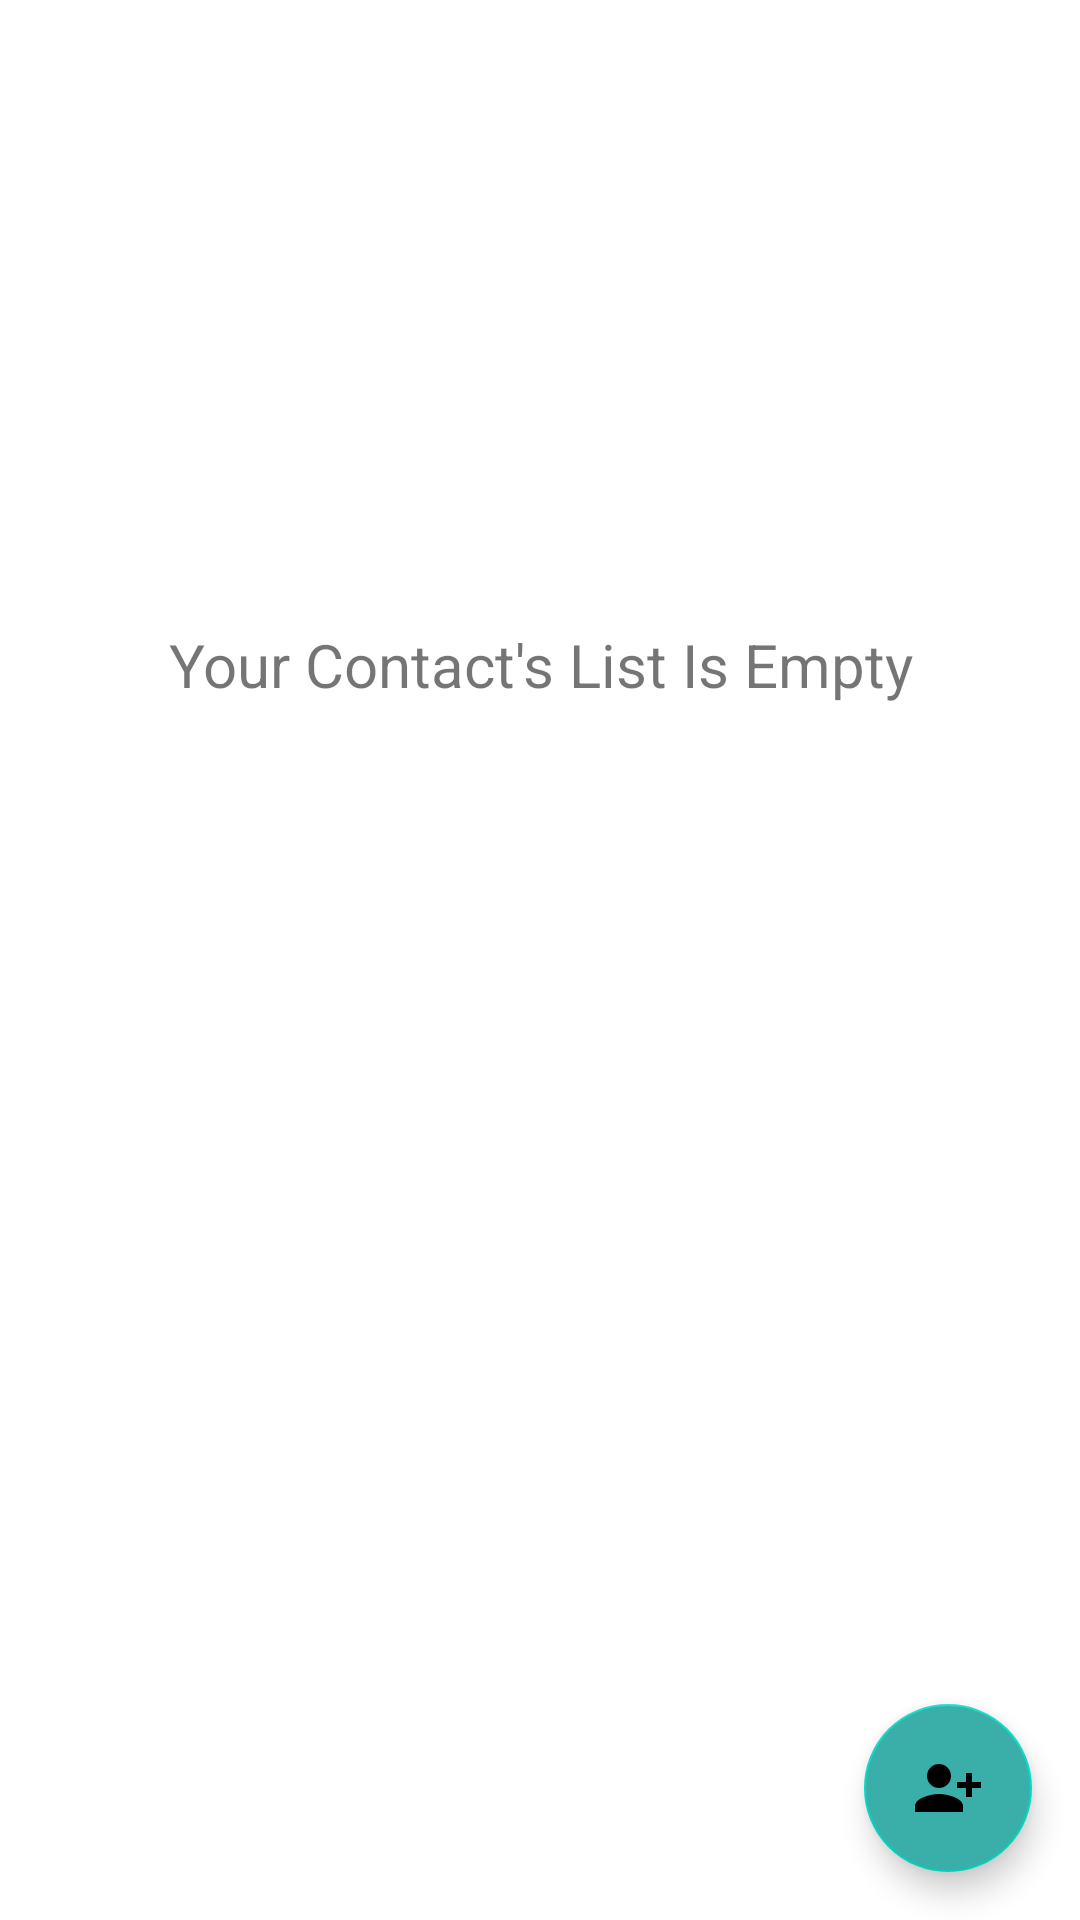

Icon bounding boxes for this 1080px x 1920px phone screenshot, format {"left": x1, "top": y1, "right": x2, "bottom": y2}:
add contact: {"left": 864, "top": 1704, "right": 1032, "bottom": 1872}
